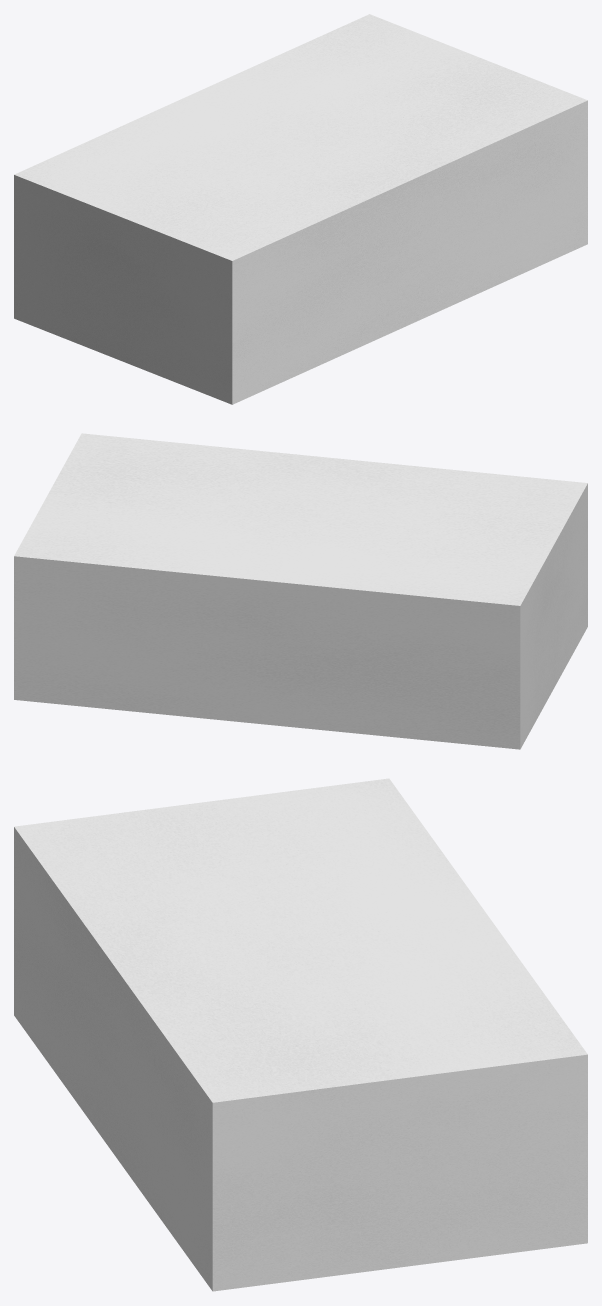
Rendered from PROA.gltf.
The picture shows the model from 3 angles, top to bottom: view 1: azimuth 30°, elevation 25°; view 2: azimuth 150°, elevation 25°; view 3: azimuth 270°, elevation 25°; orthographic projection. The views are drawn at different scales.
Visible parts, largest first — view 1: PROA; view 2: PROA; view 3: PROA.
Boxes of the visible parts, x1,y1,x2,y2 form: PROA: (14,14,587,404); PROA: (14,433,587,749); PROA: (14,778,587,1291).
Size of the model in its own units: 1.54 by 0.417 by 1.15.
Materials: 1 (1 with a texture image).
